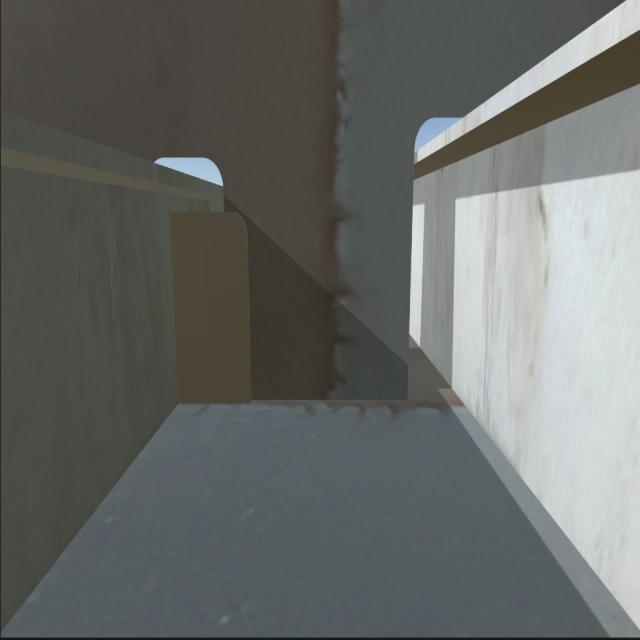fillet_yong_jeop_jang: (178, 391, 409, 404)
longi_yong_jeop_jang: (171, 213, 183, 404)
plate_CP05: (174, 215, 251, 404)
